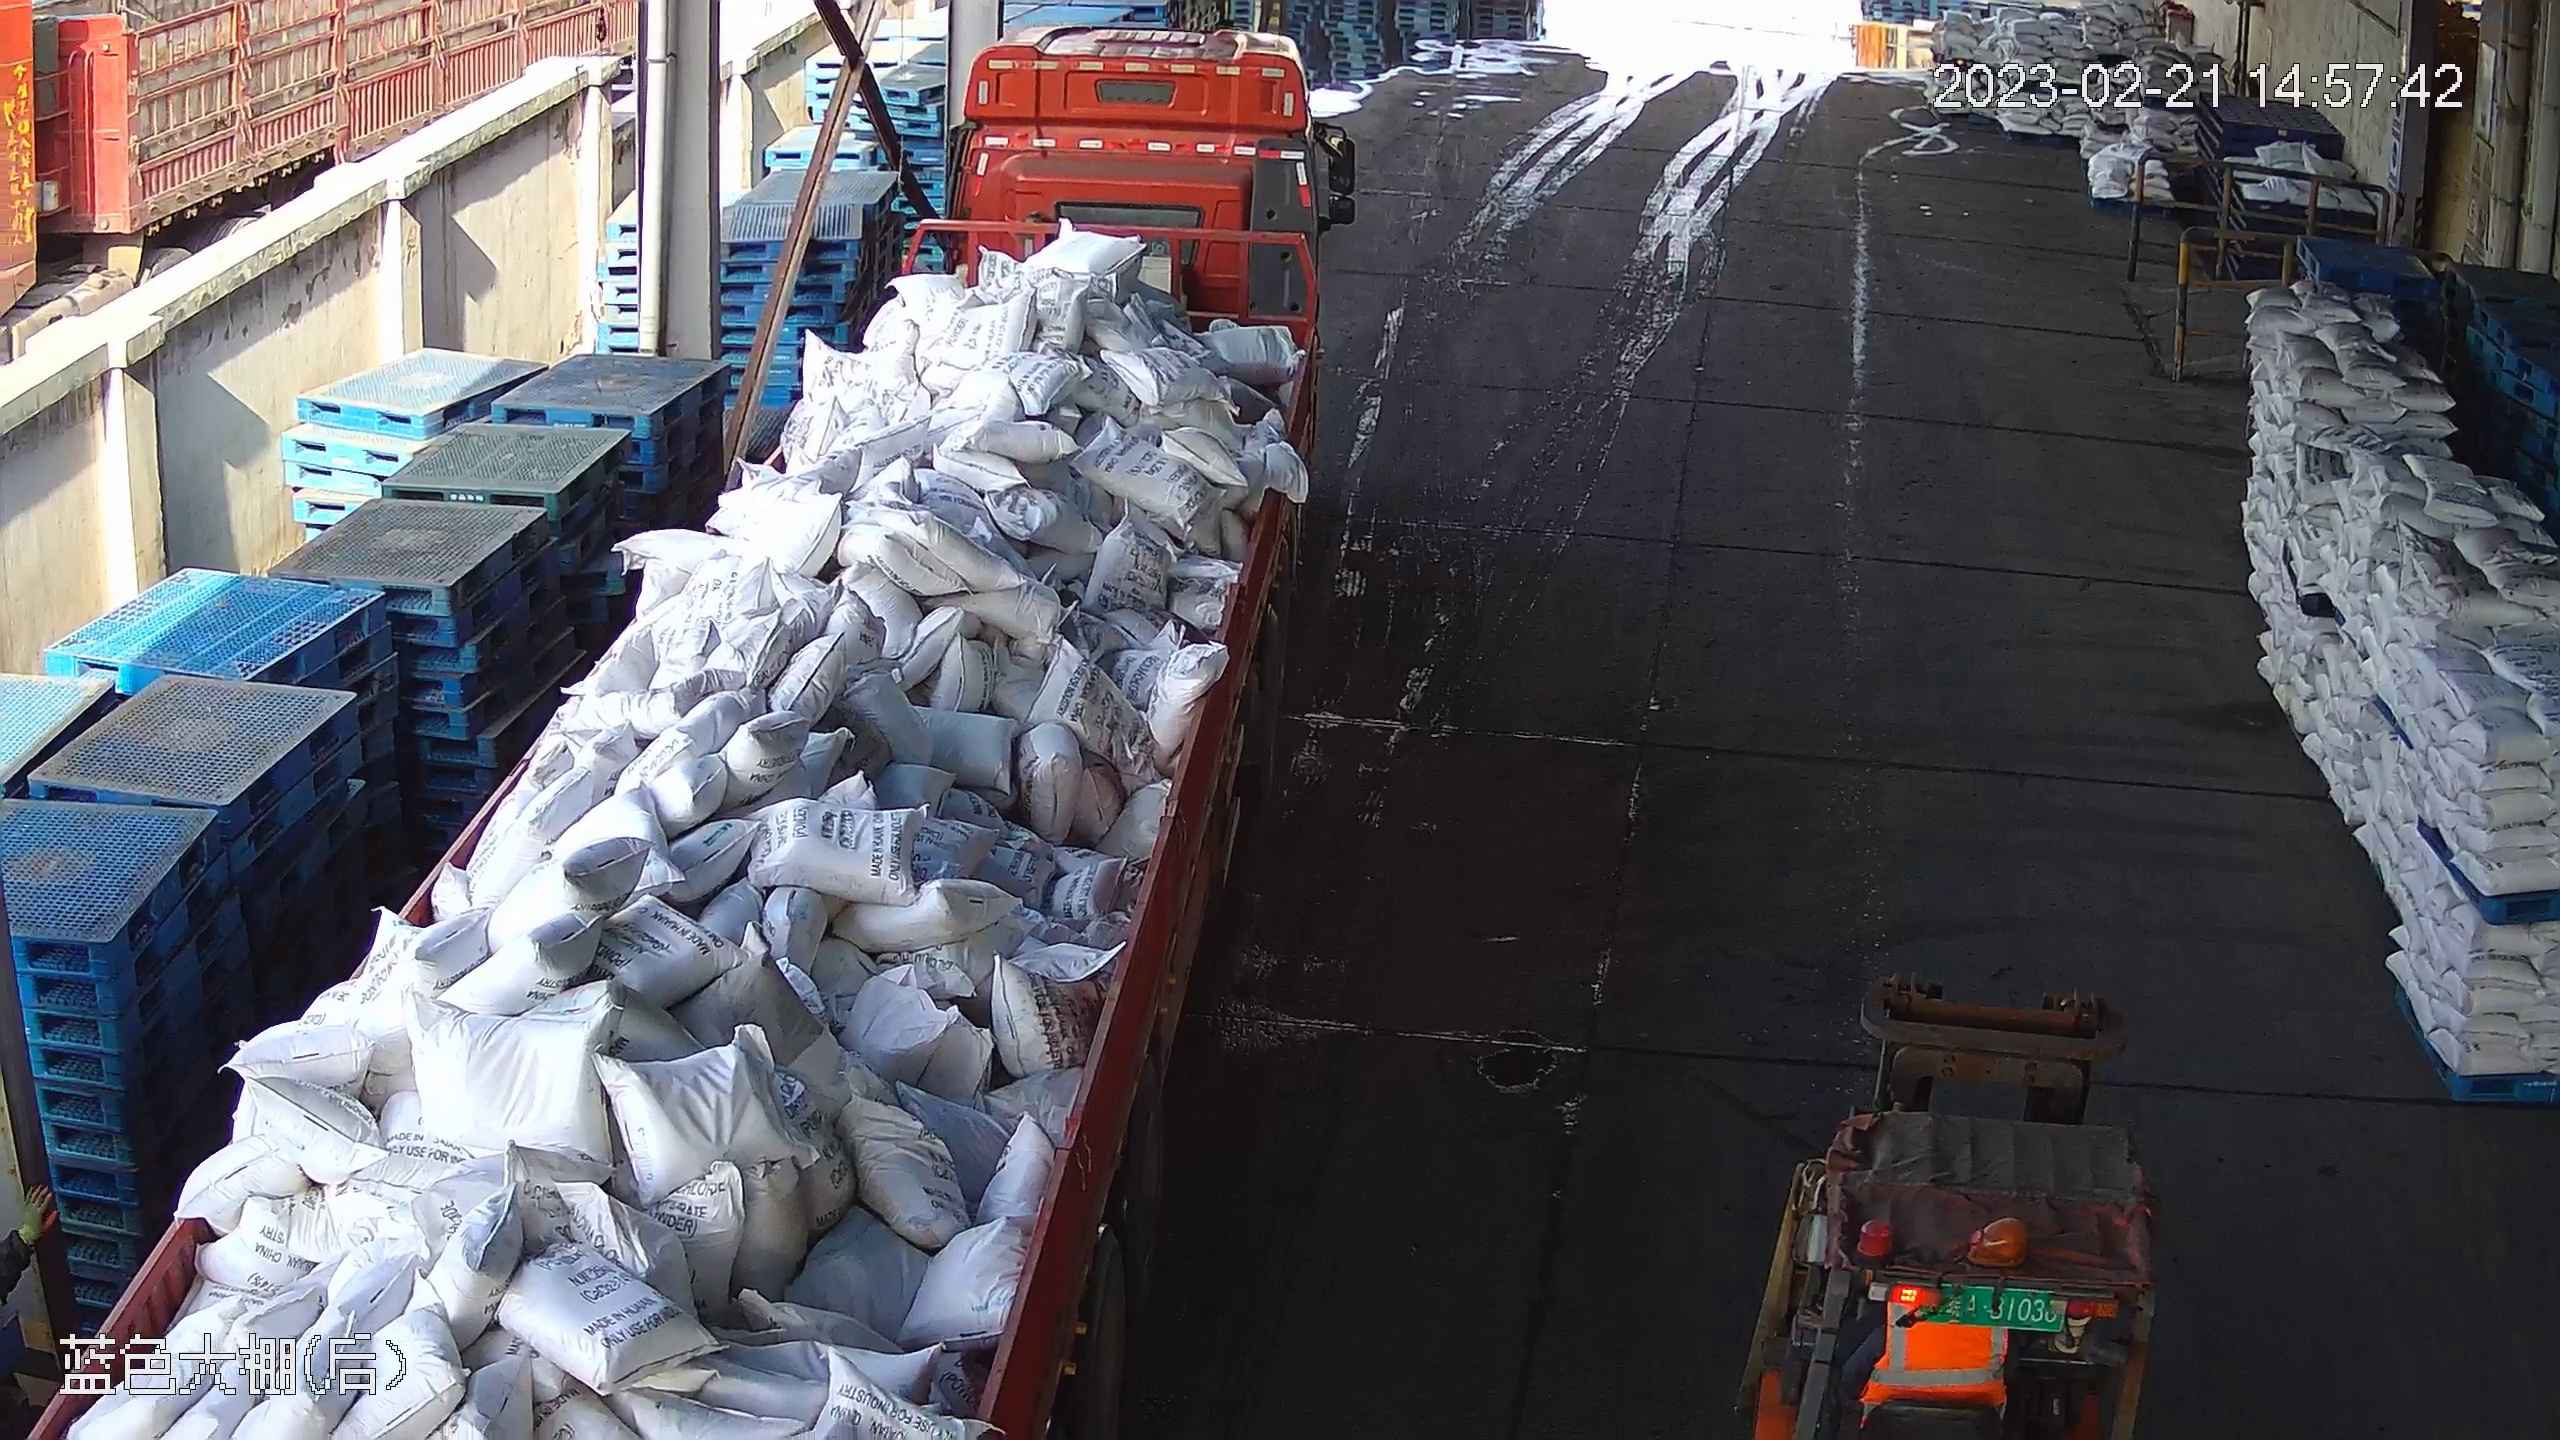truck: (46, 28, 1363, 1440)
